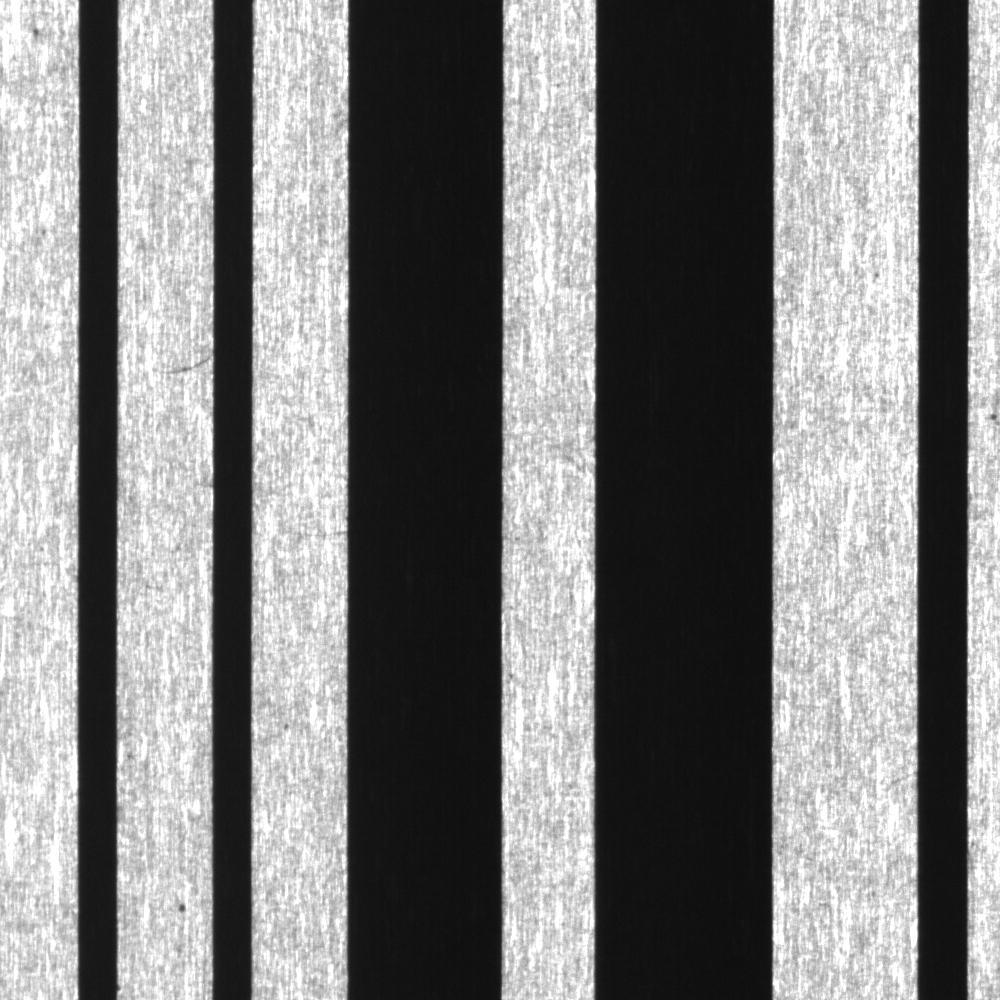Etching: (270, 710, 299, 743)
Pinhole: (162, 882, 203, 927), (17, 13, 53, 51), (866, 267, 891, 285)
Scar: (134, 332, 212, 393)
